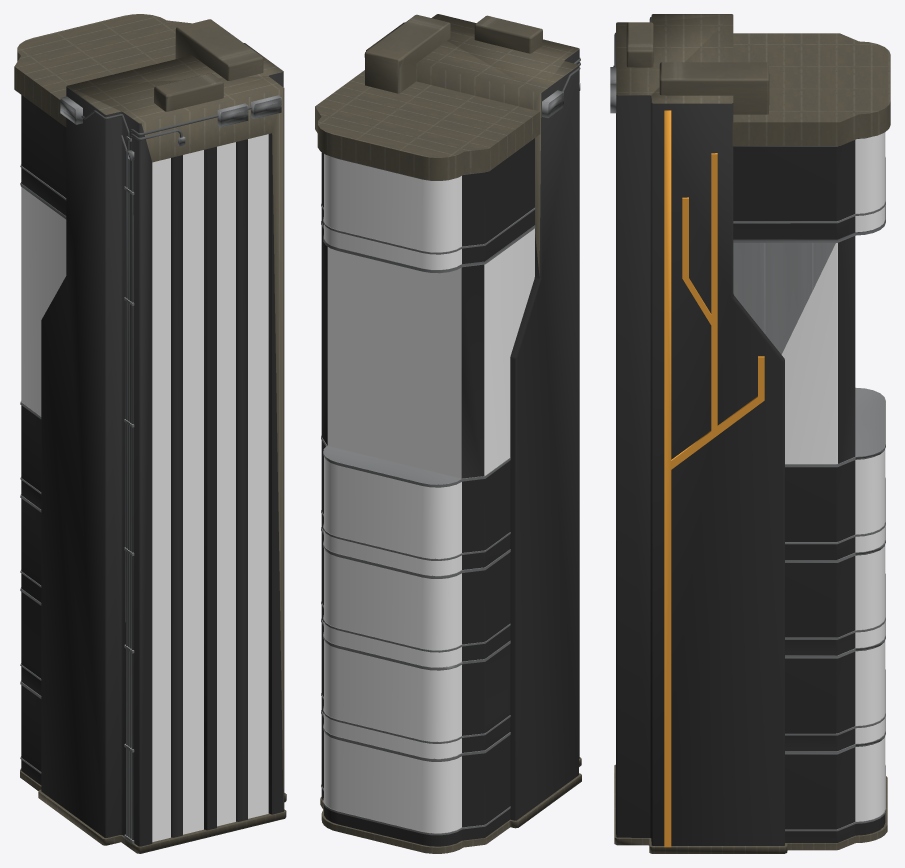
3 renders of one model, left to right at view 1: azimuth 30°, elevation 25°; view 2: azimuth 150°, elevation 25°; view 3: azimuth 270°, elevation 25°, orthographic. The views are drawn at different scales.
Parts seen in each view (by area): view 1: SM_Skyscraper_03; view 2: SM_Skyscraper_03; view 3: SM_Skyscraper_03.
Boxes of the visible parts, left/top/right/bottom form: SM_Skyscraper_03: left=14, top=14, right=286, bottom=853; SM_Skyscraper_03: left=315, top=14, right=581, bottom=853; SM_Skyscraper_03: left=610, top=14, right=890, bottom=853.
Bounding box in the file's own units: 51.22 × 194 × 64.54.
